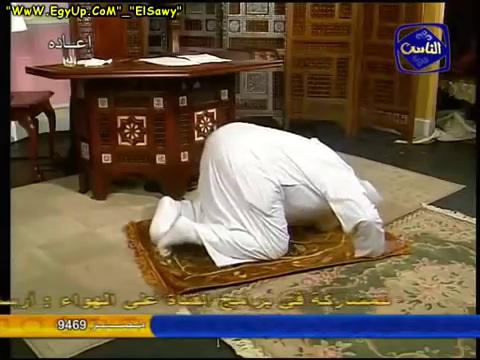sujud: (148, 121, 386, 268)
